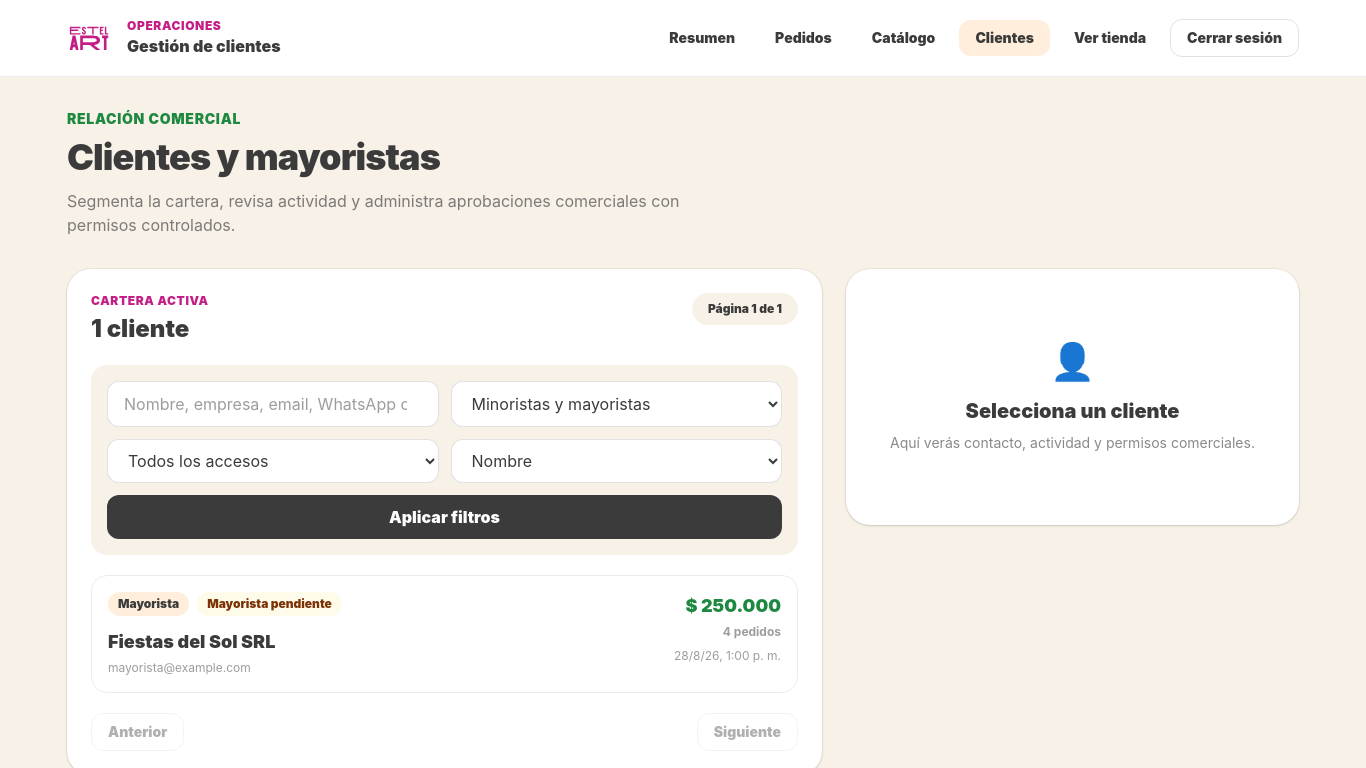
GestionClientes › muestra actividad y ficha comercial de un cliente
This screenshot has width=1366, height=768.
What coordinates should you click on to do the following:
click the button "Fiestas del Sol SRL"
I would click on:
 (149, 604)
Its box is [91, 575, 798, 693].
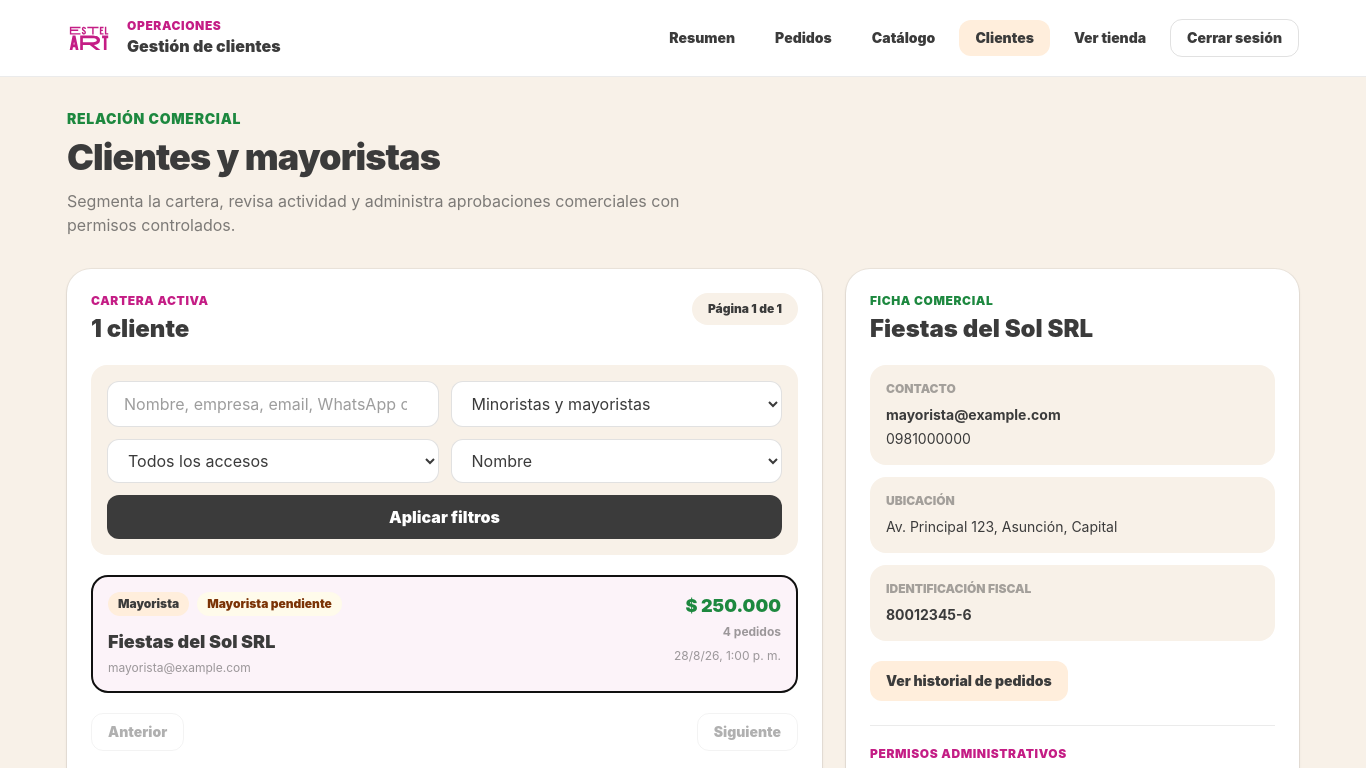
Check: the heading "Fiestas del Sol SRL" below "Ficha comercial" is shown, box [870, 314, 1093, 343]
Check: the text "mayorista@example.com" below "Contacto" is shown, box [886, 406, 1061, 423]
Check: the text "80012345-6" is shown, box [886, 606, 972, 623]
